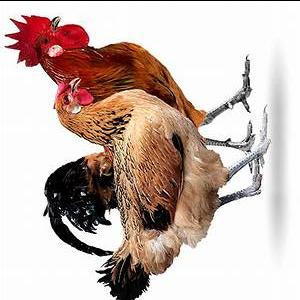hen: (41, 76, 271, 300)
